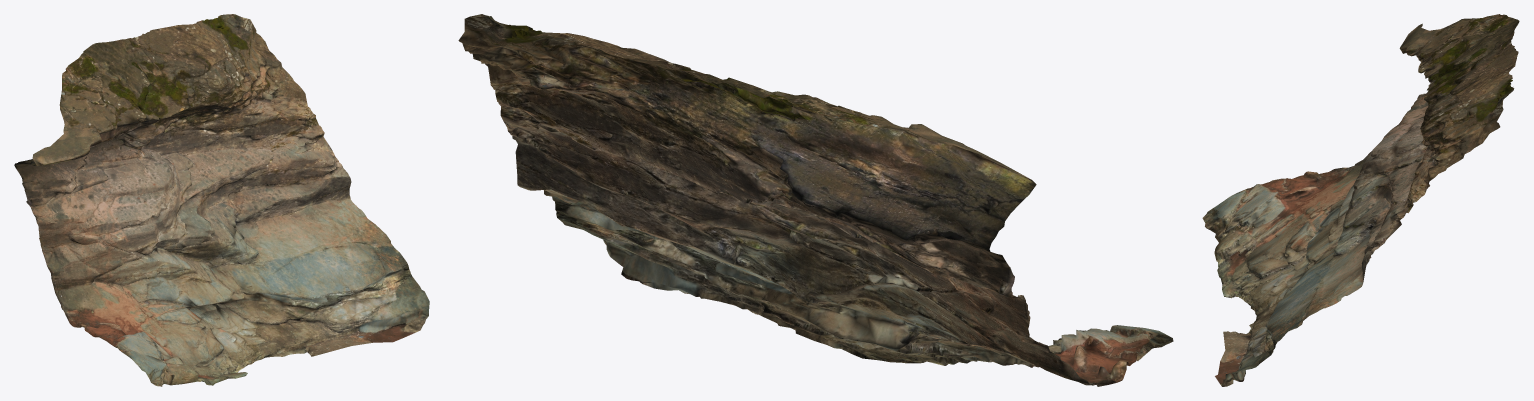
Rendered from rock_face_01.glb.
3 renders of one model, left to right at view 1: azimuth 30°, elevation 25°; view 2: azimuth 150°, elevation 25°; view 3: azimuth 270°, elevation 25°, orthographic. The views are drawn at different scales.
Visible parts, largest first — view 1: rock_face_01; view 2: rock_face_01; view 3: rock_face_01.
Boxes of the visible parts, x1,y1,x2,y2 form: rock_face_01: (14,14,429,386); rock_face_01: (458,14,1173,386); rock_face_01: (1202,14,1519,386).
Size of the model in its own units: 4.95 by 3.56 by 3.83.
1 material, 1 textured.
